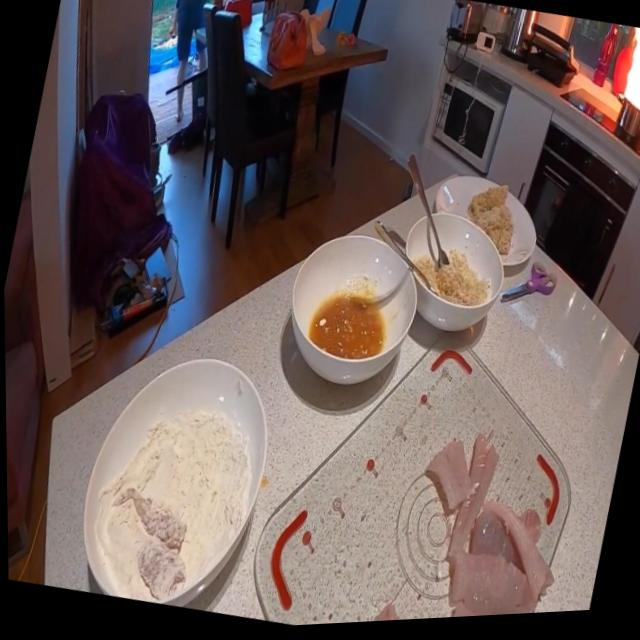fire: (613, 32, 640, 128)
